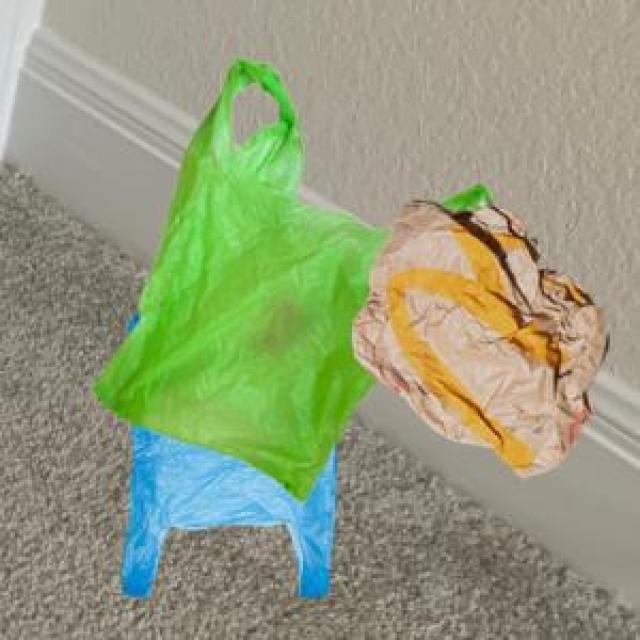paper: (348, 196, 606, 474)
